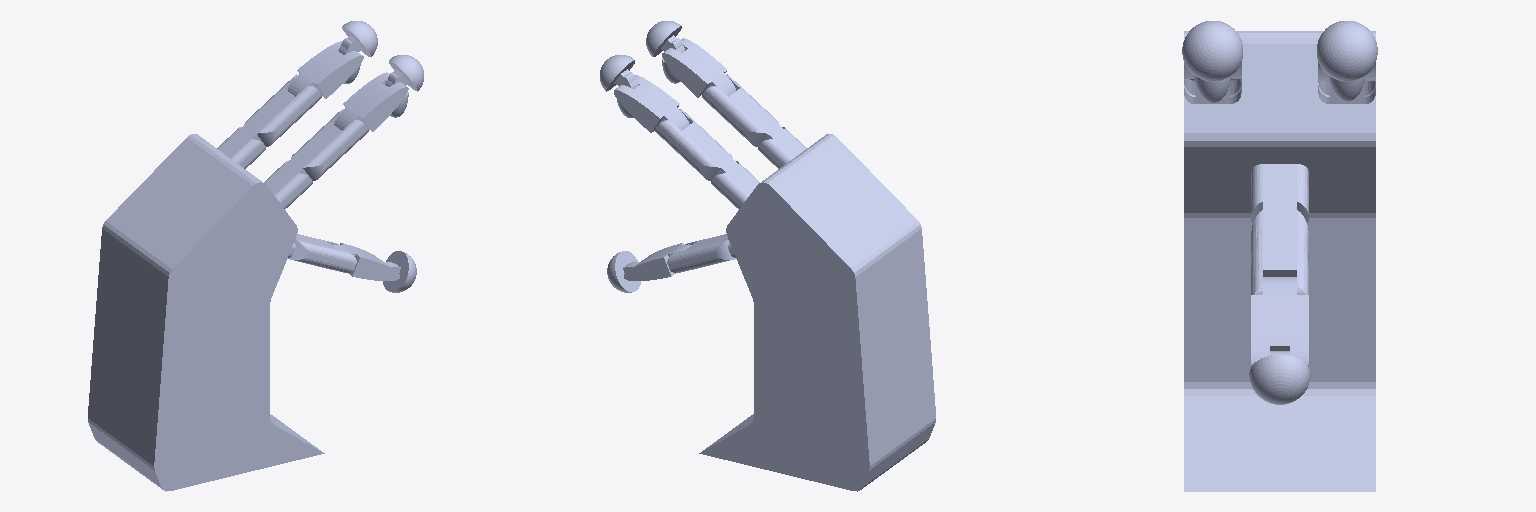
robot.urdf — HandAssembly:
<?xml version="1.0" encoding="utf-8"?>
<!-- This URDF was automatically created by SolidWorks to URDF Exporter! Originally created by [author] ([email redacted]) 
     Commit Version: 1.6.0-4-g7f85cfe  Build Version: 1.6.7995.38578
     For more information, please see http://wiki.ros.org/sw_urdf_exporter -->
<robot
  name="HandAssembly">
  <link
    name="base_link">
    <inertial>
      <origin
        xyz="-0.0936672124273331 1.63489888294066E-10 0.535231939309103"
        rpy="0 0 0" />
      <mass
        value="279.343309739745" />
      <inertia
        ixx="34.9281247022782"
        ixy="-8.13293010180577E-09"
        ixz="-2.07006228380223"
        iyy="35.7141019454583"
        iyz="-2.13551763091779E-09"
        izz="12.2415875307062" />
    </inertial>
    <visual>
      <origin
        xyz="0 0 0"
        rpy="0 0 0" />
      <geometry>
        <mesh
          filename="package://HandAssembly/meshes/base_link.STL" />
      </geometry>
      <material
        name="">
        <color
          rgba="0.792156862745098 0.819607843137255 0.933333333333333 1" />
      </material>
    </visual>
    <collision>
      <origin
        xyz="0 0 0"
        rpy="0 0 0" />
      <geometry>
        <mesh
          filename="package://HandAssembly/meshes/base_link.STL" />
      </geometry>
    </collision>
  </link>
  <link
    name="finger_1">
    <inertial>
      <origin
        xyz="0.0582113837489122 4.16223521204628E-08 0.0400000490502329"
        rpy="0 0 0" />
      <mass
        value="2.62291219261926" />
      <inertia
        ixx="0.00599150094431569"
        ixy="2.04568885344446E-08"
        ixz="1.56227476747362E-08"
        iyy="0.0153590426966866"
        iyz="-1.69856752756128E-07"
        izz="0.0188065552886403" />
    </inertial>
    <visual>
      <origin
        xyz="0 0 0"
        rpy="0 0 0" />
      <geometry>
        <mesh
          filename="package://HandAssembly/meshes/finger_1.STL" />
      </geometry>
      <material
        name="">
        <color
          rgba="0.792156862745098 0.819607843137255 0.933333333333333 1" />
      </material>
    </visual>
    <collision>
      <origin
        xyz="0 0 0"
        rpy="0 0 0" />
      <geometry>
        <mesh
          filename="package://HandAssembly/meshes/finger_1.STL" />
      </geometry>
    </collision>
  </link>
  <joint
    name="fin1"
    type="revolute">
    <origin
      xyz="0.308639953146409 0.175 1.22256279986678"
      rpy="3.14159265358979 -0.582486579623969 0" />
    <parent
      link="base_link" />
    <child
      link="finger_1" />
    <axis
      xyz="0 0 1" />
    <limit
      lower="0"
      upper="2"
      effort="0"
      velocity="0" />
  </joint>
  <link
    name="finger_1_1">
    <inertial>
      <origin
        xyz="0.0912174387332344 0.0600874065867316 2.78205906034668E-07"
        rpy="0 0 0" />
      <mass
        value="2.39969138530032" />
      <inertia
        ixx="0.00825489500630393"
        ixy="-0.00491190228357168"
        ixz="-2.00018381331709E-08"
        iyy="0.0124758879394617"
        iyz="-1.14992762721286E-08"
        izz="0.0126581634000926" />
    </inertial>
    <visual>
      <origin
        xyz="0 0 0"
        rpy="0 0 0" />
      <geometry>
        <mesh
          filename="package://HandAssembly/meshes/finger_1_1.STL" />
      </geometry>
      <material
        name="">
        <color
          rgba="0.792156862745098 0.819607843137255 0.933333333333333 1" />
      </material>
    </visual>
    <collision>
      <origin
        xyz="0 0 0"
        rpy="0 0 0" />
      <geometry>
        <mesh
          filename="package://HandAssembly/meshes/finger_1_1.STL" />
      </geometry>
    </collision>
  </link>
  <joint
    name="fin1_1"
    type="revolute">
    <origin
      xyz="0.179528059776071 0 0.0399996964134806"
      rpy="-1.5707963267949 -0.582486579623969 0" />
    <parent
      link="finger_1" />
    <child
      link="finger_1_1" />
    <axis
      xyz="-4.99498279141106E-05 -3.29033596607708E-05 -0.999999998211192" />
    <limit
      lower="0"
      upper="2"
      effort="0"
      velocity="0" />
  </joint>
  <link
    name="finger_1_1_1">
    <inertial>
      <origin
        xyz="0.0527784322758119 0.0347666889774279 -4.76739692167882E-09"
        rpy="0 0 0" />
      <mass
        value="1.2195909202896" />
      <inertia
        ixx="0.00266721627307185"
        ixy="0.00019996895051314"
        ixz="8.82126930819854E-10"
        iyy="0.00249537581218203"
        iyz="5.93373254535351E-10"
        izz="0.00235597919144712" />
    </inertial>
    <visual>
      <origin
        xyz="0 0 0"
        rpy="0 0 0" />
      <geometry>
        <mesh
          filename="package://HandAssembly/meshes/finger_1_1_1.STL" />
      </geometry>
      <material
        name="">
        <color
          rgba="0.792156862745098 0.819607843137255 0.933333333333333 1" />
      </material>
    </visual>
    <collision>
      <origin
        xyz="0 0 0"
        rpy="0 0 0" />
      <geometry>
        <mesh
          filename="package://HandAssembly/meshes/finger_1_1_1.STL" />
      </geometry>
    </collision>
  </link>
  <joint
    name="fin1_1_1"
    type="revolute">
    <origin
      xyz="0.204435726444991 0.134667212398081 0"
      rpy="0 0 0" />
    <parent
      link="finger_1_1" />
    <child
      link="finger_1_1_1" />
    <axis
      xyz="4.99498279133785E-05 3.29033596622835E-05 0.999999998211192" />
    <limit
      lower="0"
      upper="2"
      effort="0"
      velocity="0" />
  </joint>
  <link
    name="finger_1_eef">
    <inertial>
      <origin
        xyz="0.0188171280224169 -4.76739692167882E-09 -0.0123954207107375"
        rpy="0 0 0" />
      <mass
        value="1.2195909202896" />
      <inertia
        ixx="0.00266721627307185"
        ixy="8.82126930789128E-10"
        ixz="-0.00019996895051314"
        iyy="0.00235597919144712"
        iyz="-5.93373254516341E-10"
        izz="0.00249537581218203" />
    </inertial>
    <visual>
      <origin
        xyz="0 0 0"
        rpy="0 0 0" />
      <geometry>
        <mesh
          filename="package://HandAssembly/meshes/finger_1_eef.STL" />
      </geometry>
      <material
        name="">
        <color
          rgba="0.792156862745098 0.819607843137255 0.933333333333333 1" />
      </material>
    </visual>
    <collision>
      <origin
        xyz="0 0 0"
        rpy="0 0 0" />
      <geometry>
        <mesh
          filename="package://HandAssembly/meshes/finger_1_eef.STL" />
      </geometry>
    </collision>
  </link>
  <joint
    name="fin1_eef"
    type="fixed">
    <origin
      xyz="0.0339613042533951 0.0223712682666903 0"
      rpy="1.5707963267949 0 0" />
    <parent
      link="finger_1_1_1" />
    <child
      link="finger_1_eef" />
    <axis
      xyz="0 0 0" />
  </joint>
  <link
    name="finger_2">
    <inertial>
      <origin
        xyz="0.0582113997401504 7.20593135161707E-08 0.0399998347308493"
        rpy="0 0 0" />
      <mass
        value="2.62291216939468" />
      <inertia
        ixx="0.00599168928524379"
        ixy="2.54236843800562E-08"
        ixz="-6.34236507683454E-08"
        iyy="0.015358778569781"
        iyz="-1.78838763283497E-07"
        izz="0.0188064904153421" />
    </inertial>
    <visual>
      <origin
        xyz="0 0 0"
        rpy="0 0 0" />
      <geometry>
        <mesh
          filename="package://HandAssembly/meshes/finger_2.STL" />
      </geometry>
      <material
        name="">
        <color
          rgba="0.792156862745098 0.819607843137255 0.933333333333333 1" />
      </material>
    </visual>
    <collision>
      <origin
        xyz="0 0 0"
        rpy="0 0 0" />
      <geometry>
        <mesh
          filename="package://HandAssembly/meshes/finger_2.STL" />
      </geometry>
    </collision>
  </link>
  <joint
    name="fin2"
    type="revolute">
    <origin
      xyz="0.382548654972508 0 0.780508398722002"
      rpy="3.14159265358979 0.436413643527903 0" />
    <parent
      link="base_link" />
    <child
      link="finger_2" />
    <axis
      xyz="0 0 1" />
    <limit
      lower="0"
      upper="2"
      effort="0"
      velocity="0" />
  </joint>
  <link
    name="finger_2_1">
    <inertial>
      <origin
        xyz="0.0989919072013307 -0.0461704453918806 2.80457902568365E-07"
        rpy="0 0 0" />
      <mass
        value="2.39968898922773" />
      <inertia
        ixx="0.00692960842888985"
        ixy="0.00409589220427107"
        ixz="-2.11861548475042E-08"
        iyy="0.0138011469966554"
        iyz="1.07269708711359E-08"
        izz="0.0126581396998082" />
    </inertial>
    <visual>
      <origin
        xyz="0 0 0"
        rpy="0 0 0" />
      <geometry>
        <mesh
          filename="package://HandAssembly/meshes/finger_2_1.STL" />
      </geometry>
      <material
        name="">
        <color
          rgba="0.792156862745098 0.819607843137255 0.933333333333333 1" />
      </material>
    </visual>
    <collision>
      <origin
        xyz="0 0 0"
        rpy="0 0 0" />
      <geometry>
        <mesh
          filename="package://HandAssembly/meshes/finger_2_1.STL" />
      </geometry>
    </collision>
  </link>
  <joint
    name="fin2_1"
    type="revolute">
    <origin
      xyz="0.179528059776071 0 0.0399996964134798"
      rpy="-1.5707963267949 0.436413643527903 0" />
    <parent
      link="finger_2" />
    <child
      link="finger_2_1" />
    <axis
      xyz="0 0 -1" />
    <limit
      lower="0"
      upper="2"
      effort="0"
      velocity="0" />
  </joint>
  <link
    name="finger_2_1_1">
    <inertial>
      <origin
        xyz="0.0572767994330112 -0.0267141823562029 -5.92834314971924E-09"
        rpy="0 0 0" />
      <mass
        value="1.21958916107902" />
      <inertia
        ixx="0.00272116821091195"
        ixy="-0.000166746141068286"
        ixz="9.1914220049119E-10"
        iyy="0.00244142078028997"
        iyz="-4.11542290988672E-10"
        izz="0.00235597934140298" />
    </inertial>
    <visual>
      <origin
        xyz="0 0 0"
        rpy="0 0 0" />
      <geometry>
        <mesh
          filename="package://HandAssembly/meshes/finger_2_1_1.STL" />
      </geometry>
      <material
        name="">
        <color
          rgba="0.792156862745098 0.819607843137255 0.933333333333333 1" />
      </material>
    </visual>
    <collision>
      <origin
        xyz="0 0 0"
        rpy="0 0 0" />
      <geometry>
        <mesh
          filename="package://HandAssembly/meshes/finger_2_1_1.STL" />
      </geometry>
    </collision>
  </link>
  <joint
    name="fin2_1_1"
    type="revolute">
    <origin
      xyz="0.221859646346035 -0.103477155282569 0"
      rpy="0 0 0" />
    <parent
      link="finger_2_1" />
    <child
      link="finger_2_1_1" />
    <axis
      xyz="0 0 1" />
    <limit
      lower="0"
      upper="2"
      effort="0"
      velocity="0" />
  </joint>
  <link
    name="finger_2_eef">
    <inertial>
      <origin
        xyz="0.020420944727896 -5.92834314971924E-09 0.00952436547505686"
        rpy="0 0 0" />
      <mass
        value="1.21958916107902" />
      <inertia
        ixx="0.00272116821091195"
        ixy="9.1914220047405E-10"
        ixz="0.000166746141068286"
        iyy="0.00235597934140298"
        iyz="4.11542290979969E-10"
        izz="0.00244142078028997" />
    </inertial>
    <visual>
      <origin
        xyz="0 0 0"
        rpy="0 0 0" />
      <geometry>
        <mesh
          filename="package://HandAssembly/meshes/finger_2_eef.STL" />
      </geometry>
      <material
        name="">
        <color
          rgba="0.792156862745098 0.819607843137255 0.933333333333333 1" />
      </material>
    </visual>
    <collision>
      <origin
        xyz="0 0 0"
        rpy="0 0 0" />
      <geometry>
        <mesh
          filename="package://HandAssembly/meshes/finger_2_eef.STL" />
      </geometry>
    </collision>
  </link>
  <joint
    name="fin2_eef"
    type="fixed">
    <origin
      xyz="0.0368558547051152 -0.0171898168811461 0"
      rpy="1.5707963267949 0 0" />
    <parent
      link="finger_2_1_1" />
    <child
      link="finger_2_eef" />
    <axis
      xyz="0 0 0" />
  </joint>
  <link
    name="finger_3">
    <inertial>
      <origin
        xyz="0.0582113837489122 4.16223523425074E-08 0.0400000490502331"
        rpy="0 0 0" />
      <mass
        value="2.62291219261926" />
      <inertia
        ixx="0.00599150094431568"
        ixy="2.04568885529867E-08"
        ixz="1.56227476534859E-08"
        iyy="0.0153590426966865"
        iyz="-1.69856752755103E-07"
        izz="0.0188065552886402" />
    </inertial>
    <visual>
      <origin
        xyz="0 0 0"
        rpy="0 0 0" />
      <geometry>
        <mesh
          filename="package://HandAssembly/meshes/finger_3.STL" />
      </geometry>
      <material
        name="">
        <color
          rgba="0.792156862745098 0.819607843137255 0.933333333333333 1" />
      </material>
    </visual>
    <collision>
      <origin
        xyz="0 0 0"
        rpy="0 0 0" />
      <geometry>
        <mesh
          filename="package://HandAssembly/meshes/finger_3.STL" />
      </geometry>
    </collision>
  </link>
  <joint
    name="fin3"
    type="revolute">
    <origin
      xyz="0.308639953146409 -0.175 1.22256279986678"
      rpy="3.14159265358979 -0.58248657962397 0" />
    <parent
      link="base_link" />
    <child
      link="finger_3" />
    <axis
      xyz="0 0 1" />
    <limit
      lower="0"
      upper="2"
      effort="0"
      velocity="0" />
  </joint>
  <link
    name="finger_3_1">
    <inertial>
      <origin
        xyz="0.091217438733235 0.060087406586731 2.78205906534268E-07"
        rpy="0 0 0" />
      <mass
        value="2.39969138530032" />
      <inertia
        ixx="0.00825489500630393"
        ixy="-0.00491190228357168"
        ixz="-2.00018381498108E-08"
        iyy="0.0124758879394616"
        iyz="-1.14992762793102E-08"
        izz="0.0126581634000926" />
    </inertial>
    <visual>
      <origin
        xyz="0 0 0"
        rpy="0 0 0" />
      <geometry>
        <mesh
          filename="package://HandAssembly/meshes/finger_3_1.STL" />
      </geometry>
      <material
        name="">
        <color
          rgba="0.792156862745098 0.819607843137255 0.933333333333333 1" />
      </material>
    </visual>
    <collision>
      <origin
        xyz="0 0 0"
        rpy="0 0 0" />
      <geometry>
        <mesh
          filename="package://HandAssembly/meshes/finger_3_1.STL" />
      </geometry>
    </collision>
  </link>
  <joint
    name="fin3_1"
    type="revolute">
    <origin
      xyz="0.179528059776071 0 0.03999969641348"
      rpy="-1.5707963267949 -0.58248657962397 0" />
    <parent
      link="finger_3" />
    <child
      link="finger_3_1" />
    <axis
      xyz="0 0 -1" />
    <limit
      lower="0"
      upper="2"
      effort="0"
      velocity="0" />
  </joint>
  <link
    name="finger_3_1_1">
    <inertial>
      <origin
        xyz="0.0527784322758127 0.0347666889774283 -4.76739669963422E-09"
        rpy="0 0 0" />
      <mass
        value="1.21959092028959" />
      <inertia
        ixx="0.00266721497330702"
        ixy="0.000199970605801"
        ixz="1.48943468103907E-09"
        iyy="0.00249537319047578"
        iyz="1.00825650294165E-09"
        izz="0.00235597566360135" />
    </inertial>
    <visual>
      <origin
        xyz="0 0 0"
        rpy="0 0 0" />
      <geometry>
        <mesh
          filename="package://HandAssembly/meshes/finger_3_1_1.STL" />
      </geometry>
      <material
        name="">
        <color
          rgba="0.792156862745098 0.819607843137255 0.933333333333333 1" />
      </material>
    </visual>
    <collision>
      <origin
        xyz="0 0 0"
        rpy="0 0 0" />
      <geometry>
        <mesh
          filename="package://HandAssembly/meshes/finger_3_1_1.STL" />
      </geometry>
    </collision>
  </link>
  <joint
    name="fin3_1_1"
    type="revolute">
    <origin
      xyz="0.20443572644499 0.13466721239808 0"
      rpy="0 0 0" />
    <parent
      link="finger_3_1" />
    <child
      link="finger_3_1_1" />
    <axis
      xyz="0 0 -1" />
    <limit
      lower="0"
      upper="2"
      effort="0"
      velocity="0" />
  </joint>
  <link
    name="finger_3_eef">
    <inertial>
      <origin
        xyz="0.0188171280224176 -4.76739669963422E-09 -0.012395420710738"
        rpy="0 0 0" />
      <mass
        value="1.21959092028959" />
      <inertia
        ixx="0.00266721497330702"
        ixy="1.48943468102324E-09"
        ixz="-0.000199970605801"
        iyy="0.00235597566360135"
        iyz="-1.00825650293072E-09"
        izz="0.00249537319047578" />
    </inertial>
    <visual>
      <origin
        xyz="0 0 0"
        rpy="0 0 0" />
      <geometry>
        <mesh
          filename="package://HandAssembly/meshes/finger_3_eef.STL" />
      </geometry>
      <material
        name="">
        <color
          rgba="0.792156862745098 0.819607843137255 0.933333333333333 1" />
      </material>
    </visual>
    <collision>
      <origin
        xyz="0 0 0"
        rpy="0 0 0" />
      <geometry>
        <mesh
          filename="package://HandAssembly/meshes/finger_3_eef.STL" />
      </geometry>
    </collision>
  </link>
  <joint
    name="fin3_eef"
    type="fixed">
    <origin
      xyz="0.0339613042533951 0.0223712682666903 0"
      rpy="1.5707963267949 0 0" />
    <parent
      link="finger_3_1_1" />
    <child
      link="finger_3_eef" />
    <axis
      xyz="0 0 0" />
  </joint>
</robot>

--- Facts derived from the render (not from the file) ---
The picture shows the robot from 3 angles, left to right: view 1: azimuth 30°, elevation 25°; view 2: azimuth 150°, elevation 25°; view 3: azimuth 270°, elevation 25°; orthographic projection.
Robot: HandAssembly — 13 links, 12 joints (9 revolute, 3 fixed); root link base_link; default pose: all joints at 0.
Visible links, largest first — view 1: base_link, finger_1, finger_3, finger_3_1, finger_1_1, finger_2, finger_2_1, finger_1_eef, finger_3_eef, finger_2_1_1; view 2: base_link, finger_1, finger_3, finger_3_1, finger_1_1, finger_2, finger_2_1, finger_1_eef, finger_3_eef, finger_2_1_1; view 3: base_link, finger_2, finger_2_1, finger_1_eef, finger_3_eef, finger_2_1_1, finger_3_1_1, finger_1_1_1.
Boxes of the visible links, bbox=[...] form: base_link: bbox=[88, 126, 324, 491]; finger_1: bbox=[244, 74, 321, 146]; finger_3: bbox=[291, 109, 368, 180]; finger_3_1: bbox=[334, 72, 408, 131]; finger_1_1: bbox=[288, 41, 363, 98]; finger_2: bbox=[288, 234, 356, 272]; finger_2_1: bbox=[332, 243, 399, 280]; finger_1_eef: bbox=[339, 21, 377, 56]; finger_3_eef: bbox=[385, 55, 423, 91]; finger_2_1_1: bbox=[383, 251, 416, 292]; base_link: bbox=[699, 126, 935, 491]; finger_1: bbox=[655, 109, 732, 180]; finger_3: bbox=[702, 74, 779, 146]; finger_3_1: bbox=[662, 38, 735, 97]; finger_1_1: bbox=[614, 75, 689, 132]; finger_2: bbox=[667, 234, 735, 272]; finger_2_1: bbox=[624, 243, 691, 280]; finger_1_eef: bbox=[600, 55, 638, 91]; finger_3_eef: bbox=[646, 21, 684, 56]; finger_2_1_1: bbox=[607, 251, 640, 292]; base_link: bbox=[1184, 31, 1375, 491]; finger_2: bbox=[1251, 206, 1308, 294]; finger_2_1: bbox=[1251, 277, 1308, 366]; finger_1_eef: bbox=[1317, 21, 1377, 81]; finger_3_eef: bbox=[1182, 21, 1242, 81]; finger_2_1_1: bbox=[1249, 351, 1310, 404]; finger_3_1_1: bbox=[1194, 75, 1231, 102]; finger_1_1_1: bbox=[1329, 75, 1365, 101].
Bounding box of the posed robot: 1.27 × 0.5097 × 1.52 m (x, y, z).
Meshes: 13 distinct files referenced, 13 mesh visuals loaded (13 binary STL).